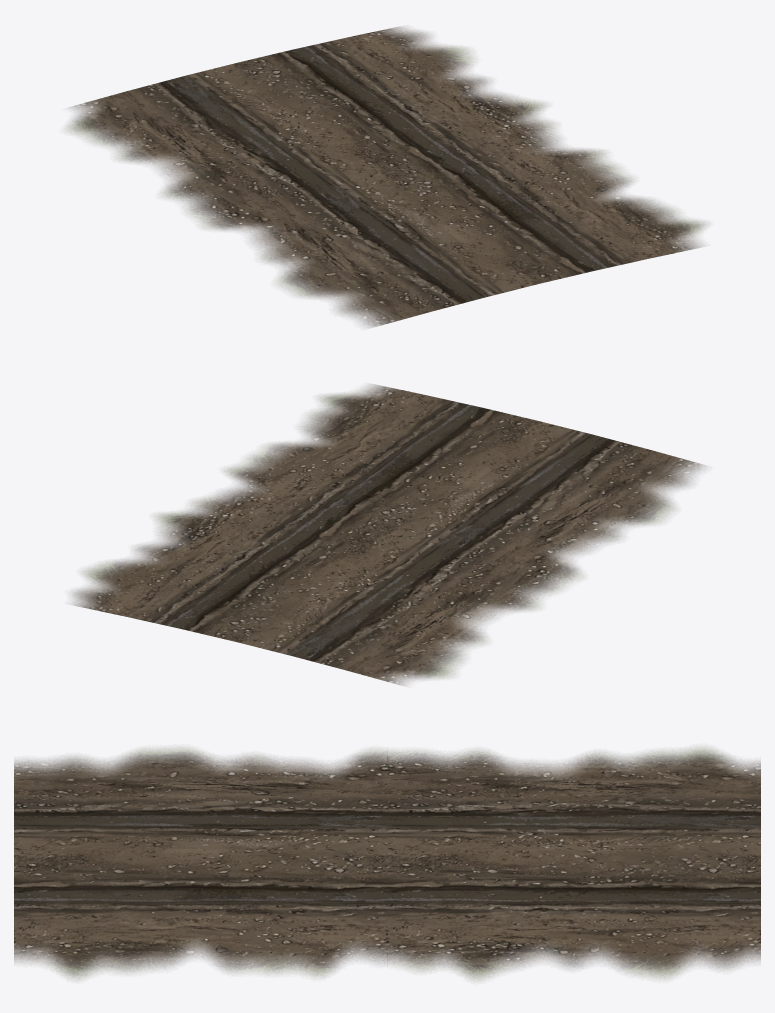
Rendered from world-road.glb.
3 renders of one model, top to bottom at view 1: azimuth 30°, elevation 25°; view 2: azimuth 150°, elevation 25°; view 3: azimuth 270°, elevation 25°, orthographic. The views are drawn at different scales.
Parts seen in each view (by area): view 1: world-road; view 2: world-road; view 3: world-road.
Boxes of the visible parts, x1,y1,x2,y2 form: world-road: (67,26,706,327); world-road: (71,384,706,685); world-road: (14,747,760,980).
Bounding box in the file's own units: 3.4 × 0.04 × 4.
Materials: 1 (1 with a texture image).
